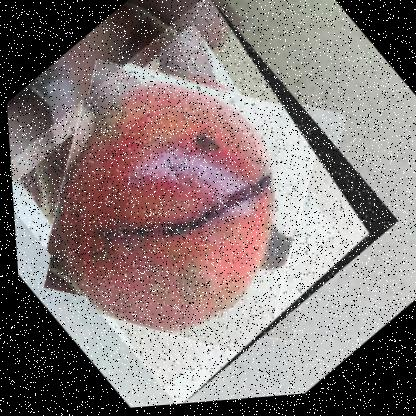pomegranate_rotten: (1, 0, 405, 415)
